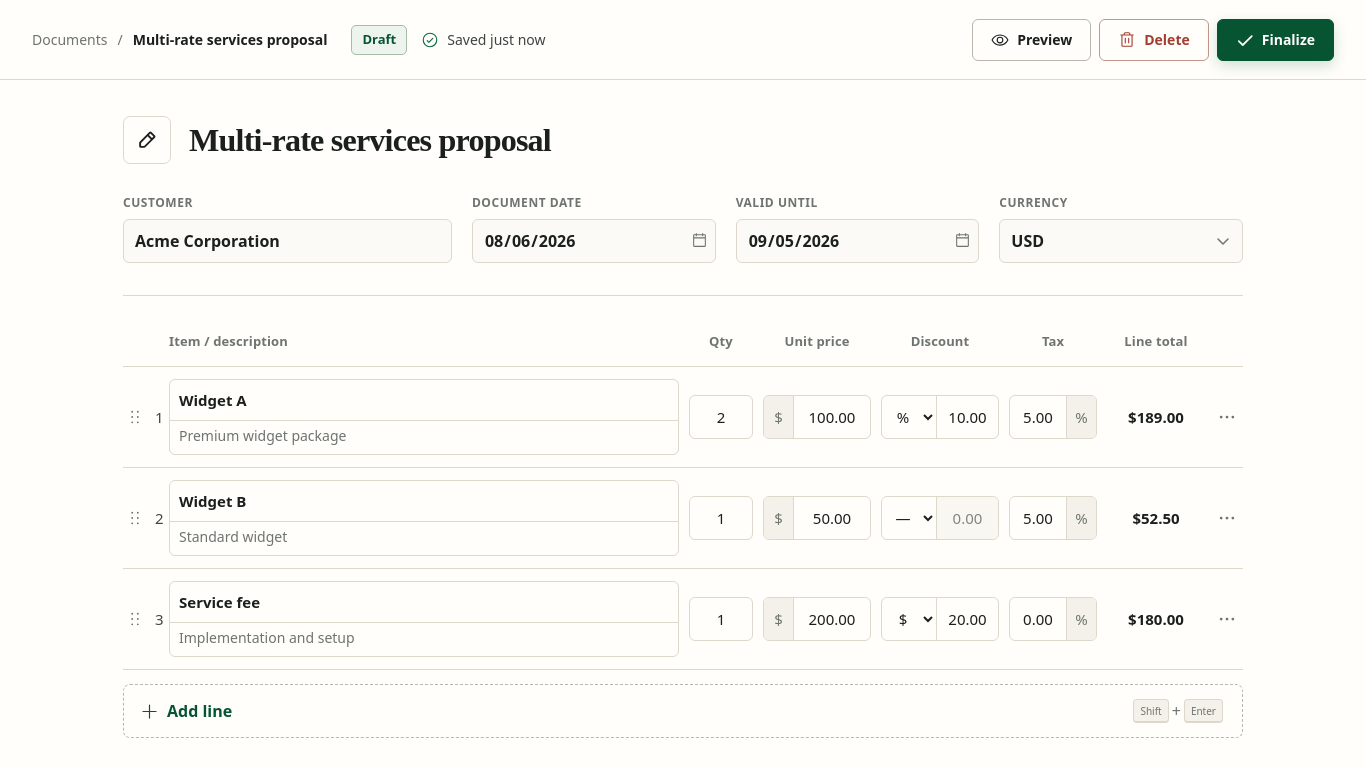
Test: DocumentEditorPage › applies one editable currency across the whole document
This screenshot has width=1366, height=768.
Step 1. Click the button with aria-label "Currency" → (1121, 241), box [999,219,1243,263]
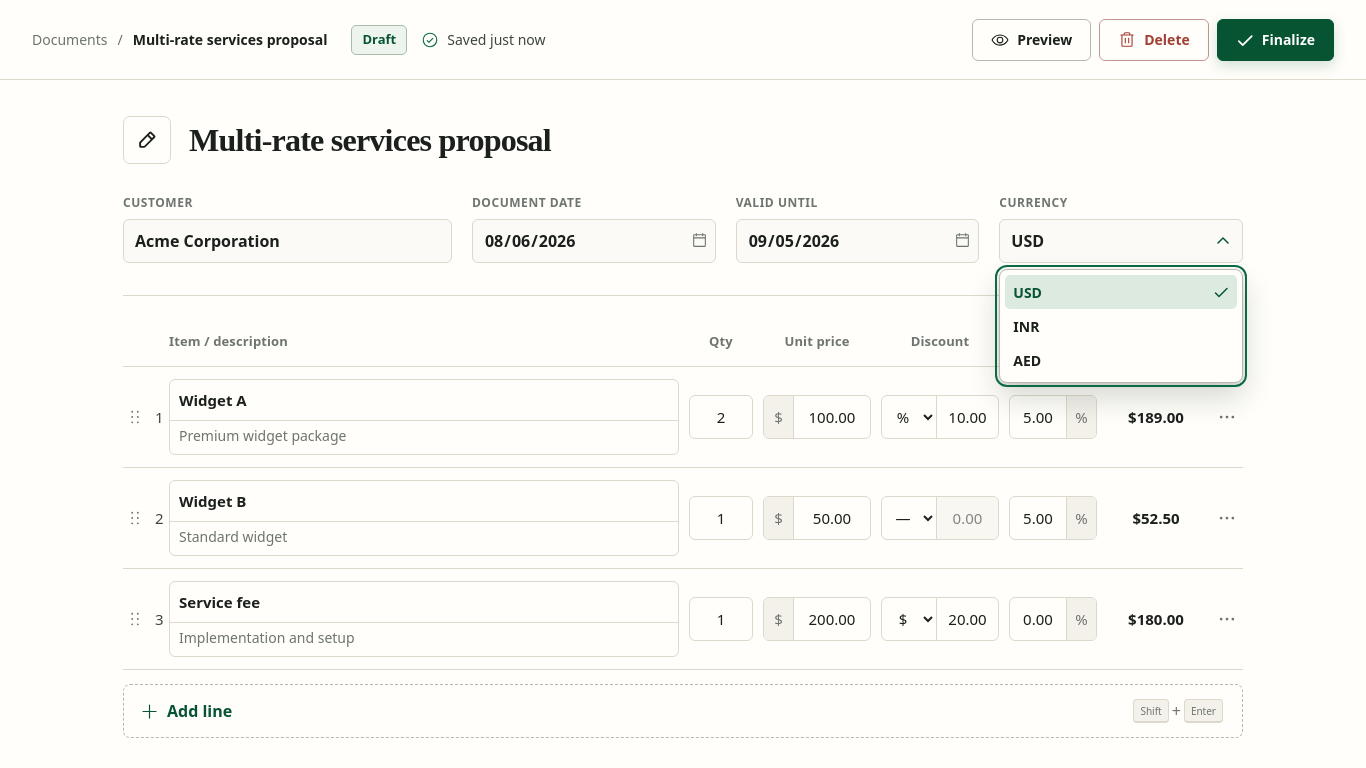
Expected: the list named "Currency" is shown, [999,269,1243,383]
Step 2. Click the option "INR" → (1026, 326), box [1013,316,1039,336]
(page scrolled)
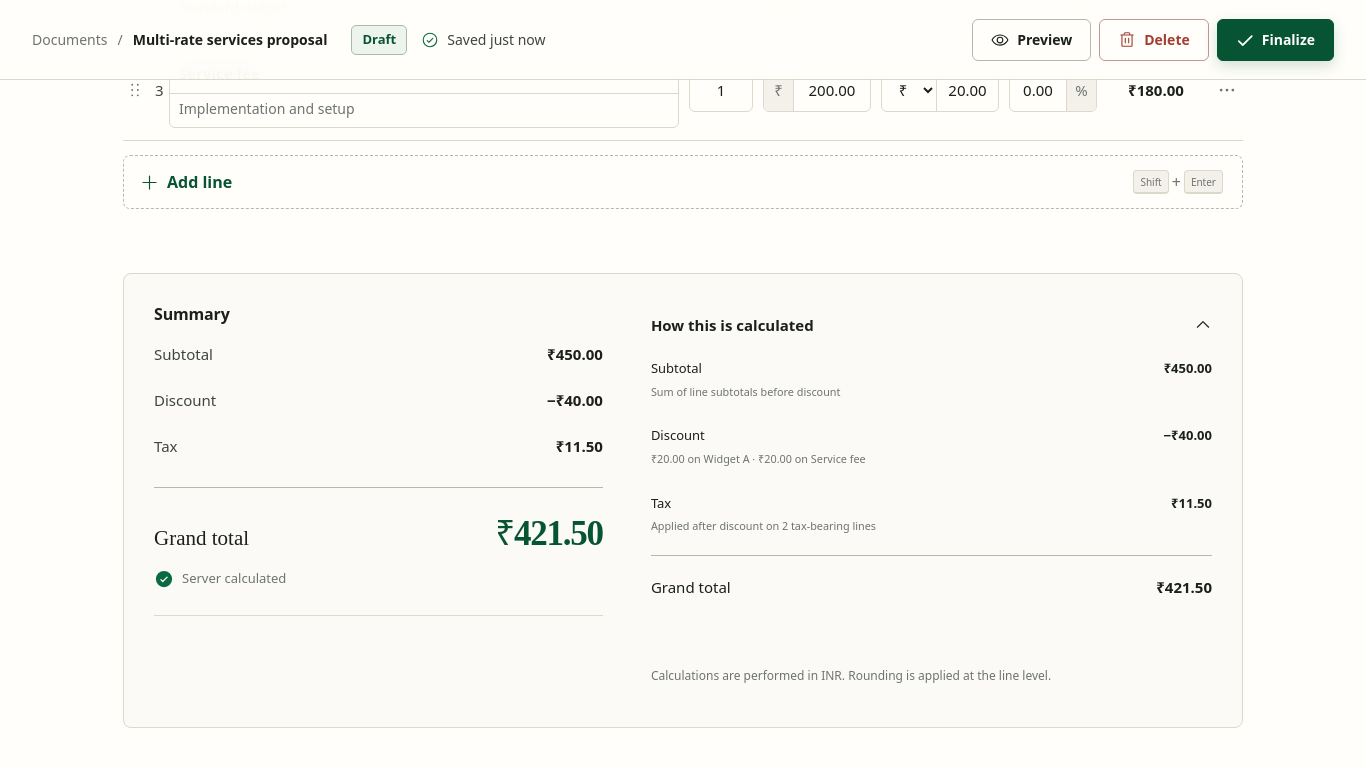
Expected: the 1st text "₹421.50" is shown, [495,508,603,560]
Expected: the text "Calculations are performed in INR" is shown, [651,667,1051,684]
